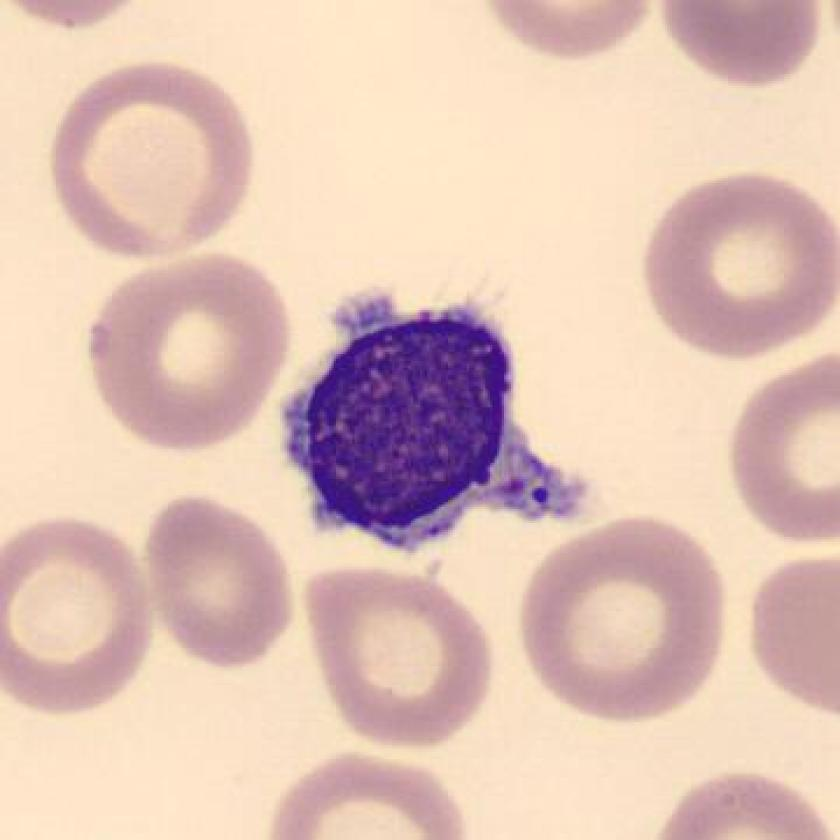lymphocyte: (260, 272, 608, 582)
